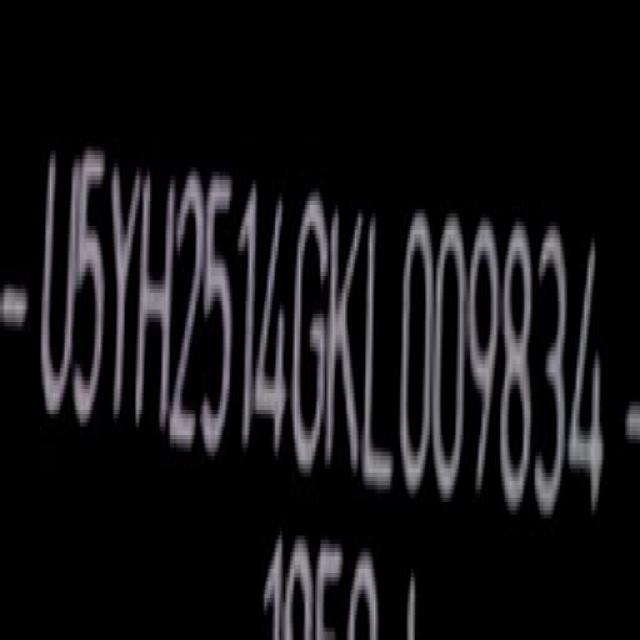0: (397, 216, 437, 504), (431, 220, 468, 506)
1: (231, 175, 258, 470)
2: (170, 163, 210, 462)
3: (534, 234, 572, 526)
4: (252, 179, 296, 470), (568, 240, 605, 517)
5: (64, 142, 112, 436), (199, 167, 239, 466)
8: (500, 220, 534, 515)
9: (462, 218, 499, 512)
C: (287, 185, 333, 478)
H: (134, 160, 181, 449)
K: (324, 206, 369, 489)
L: (362, 207, 403, 500)
U: (32, 146, 80, 430)
Y: (100, 152, 144, 442)
